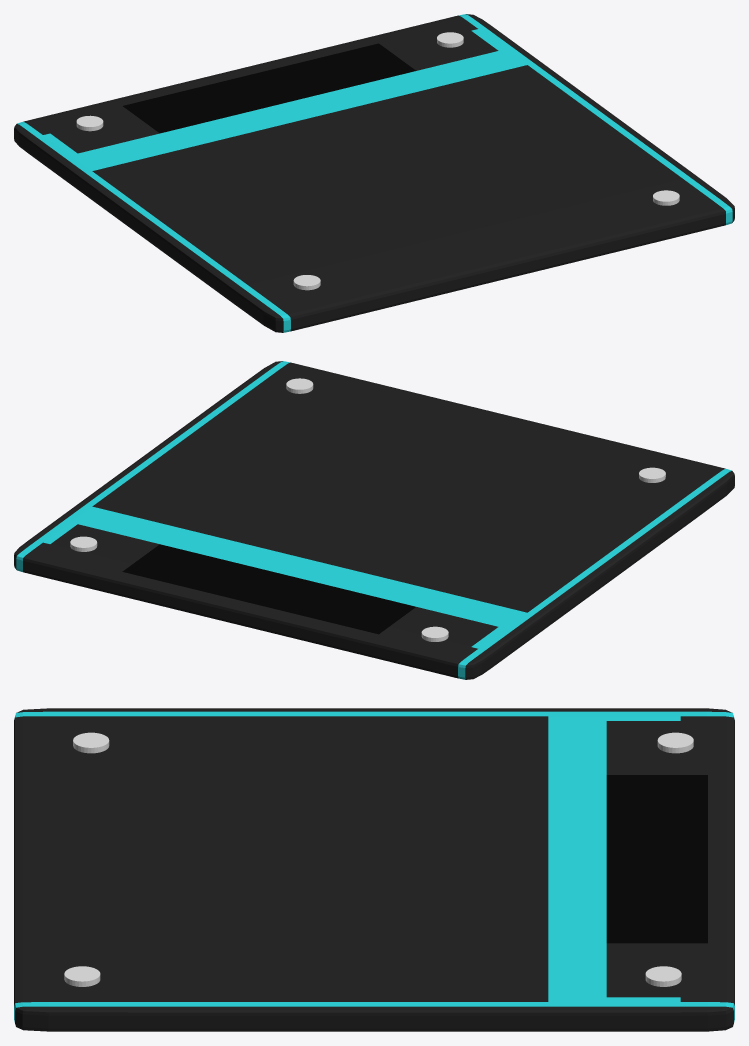
The model's file is ggj2019scale 1.fbx.
3 renders of one model, top to bottom at view 1: azimuth 30°, elevation 25°; view 2: azimuth 150°, elevation 25°; view 3: azimuth 270°, elevation 25°, orthographic. The views are drawn at different scales.
Parts seen in each view (by area): view 1: Cube; view 2: Cube; view 3: Cube, Cylinder.003, Cylinder.001, Cylinder.002, Cylinder.
Part boxes in pixels (left/top/right/bottom): Cube: left=14, top=14, right=734, bottom=332; Cube: left=14, top=361, right=734, bottom=679; Cube: left=14, top=708, right=734, bottom=1031; Cylinder.003: left=73, top=732, right=109, bottom=753; Cylinder.001: left=657, top=732, right=693, bottom=753; Cylinder.002: left=64, top=966, right=100, bottom=986; Cylinder: left=645, top=966, right=681, bottom=986.
Bounding box in the file's own units: 32.91 × 1.65 × 32.91.
